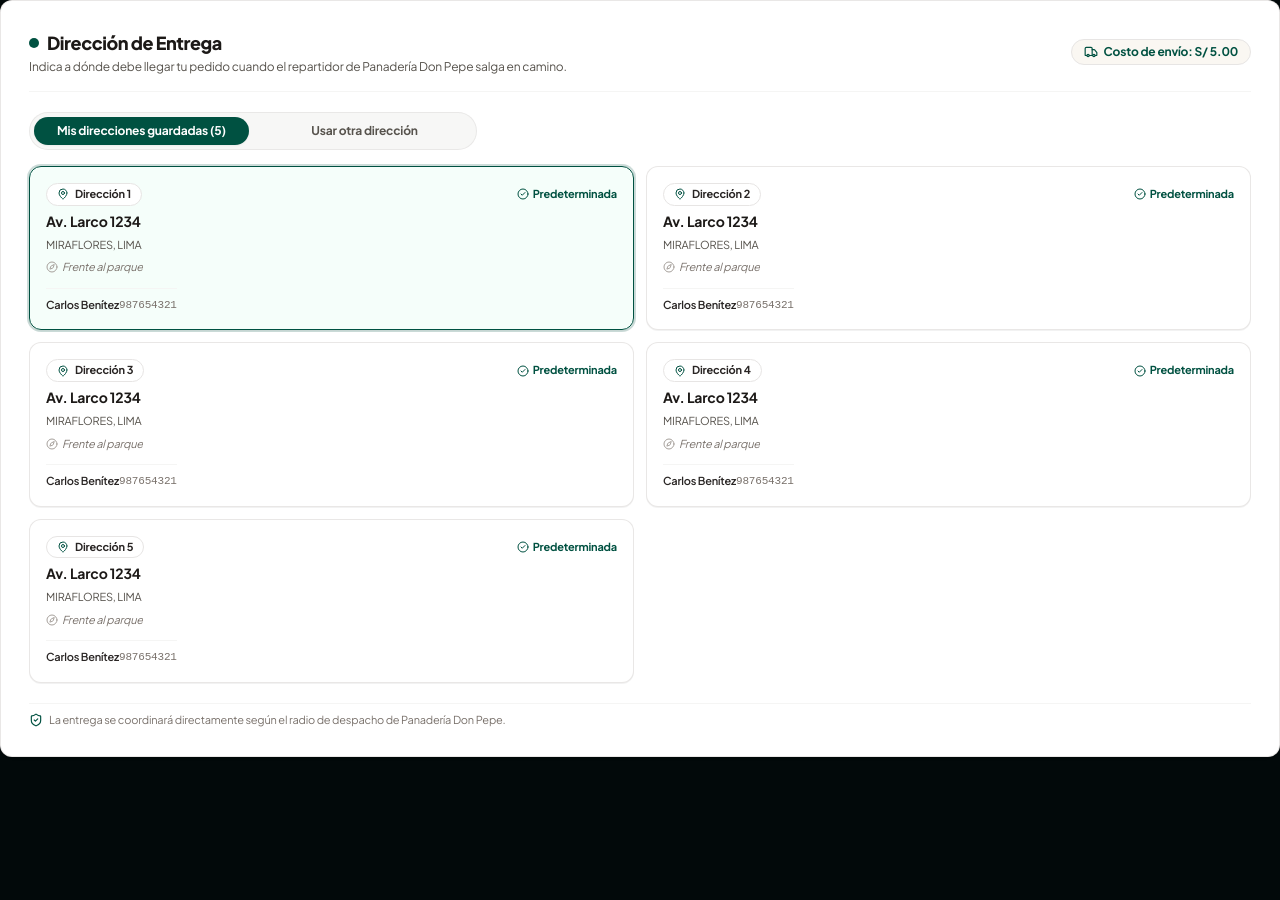
Test: DeliveryAddressSelector Component › disables saving checkbox when maximum of 5 addresses is reached
The width and height of the screenshot is (1280, 900).
Click the button "Usar otra dirección".
click(364, 131)  # box top-left (257, 117), bottom-right (472, 145)
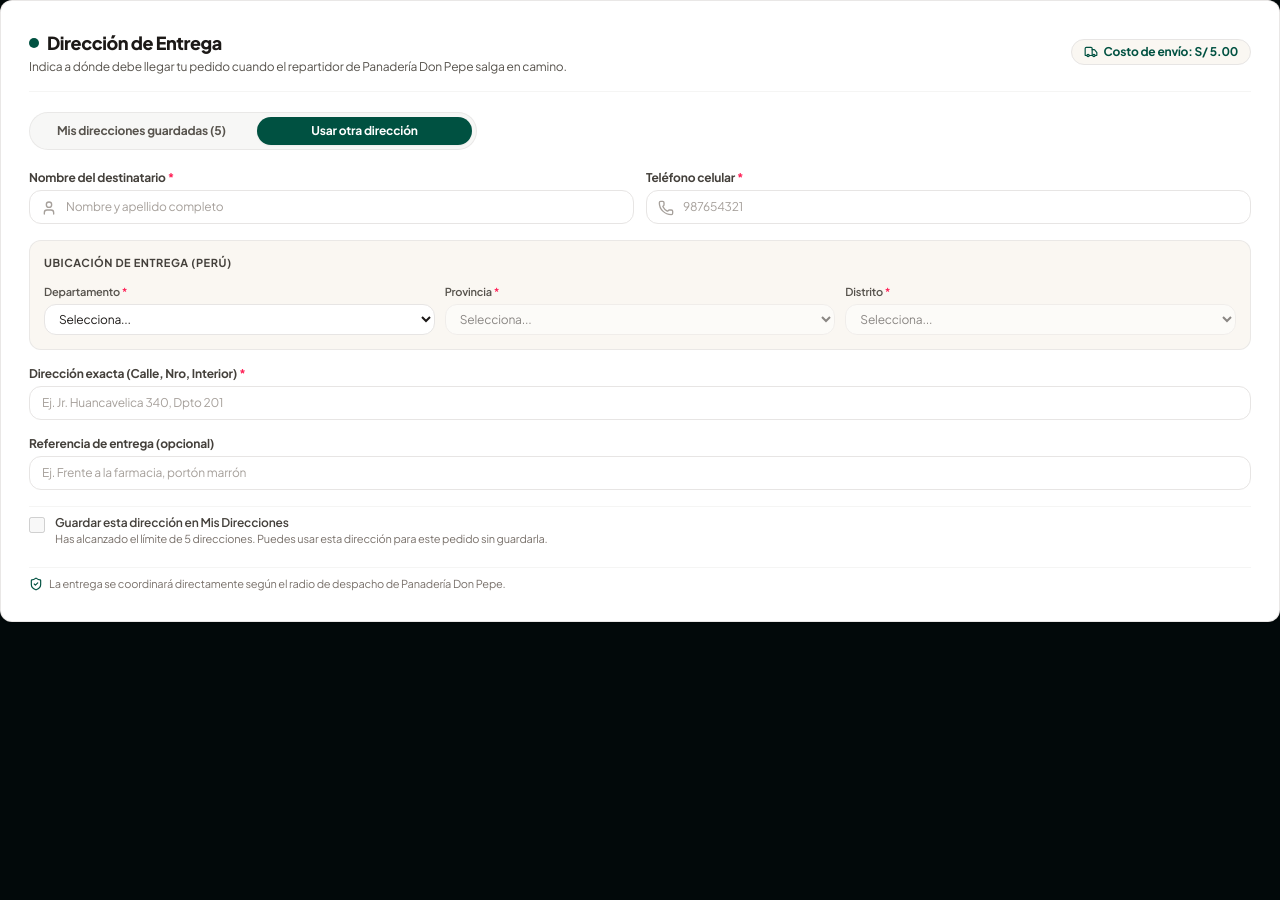
Expected: the checkbox labelled "Guardar esta dirección en Mis Direcciones" is disabled, top-left (29, 517), bottom-right (45, 533)
Expected: the text "Has alcanzado el límite de 5 direcciones" is shown, top-left (55, 532), bottom-right (548, 545)
